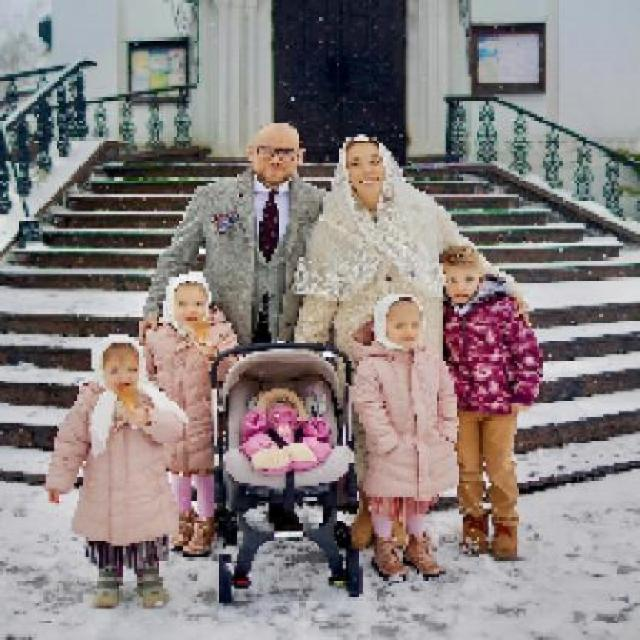child: (42, 332, 192, 612), (437, 244, 546, 559), (349, 291, 462, 580), (140, 276, 240, 558), (238, 388, 333, 472)
